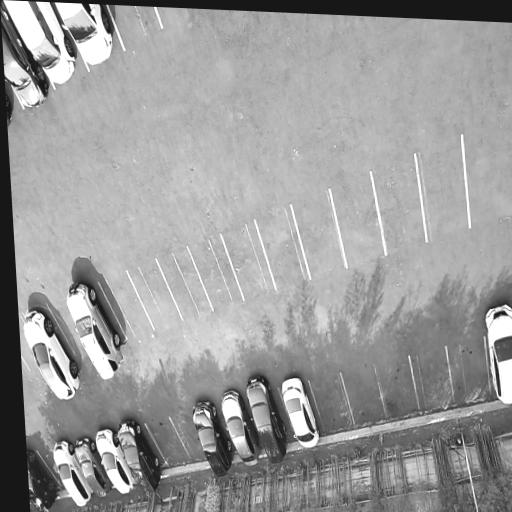Car: (60, 268, 129, 391), (1, 0, 85, 98), (20, 299, 87, 412), (1, 0, 55, 117), (47, 2, 121, 78), (241, 371, 292, 470), (113, 417, 167, 506), (214, 383, 266, 472), (187, 396, 237, 486), (277, 372, 326, 456), (91, 426, 140, 500), (49, 437, 96, 509), (481, 299, 512, 408), (71, 434, 114, 501), (26, 438, 63, 512)
Space Available: (416, 137, 470, 245), (372, 156, 428, 255), (330, 173, 386, 269), (291, 191, 347, 279), (255, 207, 311, 289), (221, 220, 275, 301), (188, 235, 244, 312), (157, 247, 213, 320), (127, 261, 182, 331), (99, 272, 155, 340), (446, 337, 491, 404), (308, 373, 355, 436), (341, 365, 387, 427), (410, 348, 454, 410), (375, 357, 419, 418), (106, 5, 162, 51), (47, 298, 87, 356), (146, 418, 191, 468), (170, 413, 204, 462), (37, 447, 66, 489)
